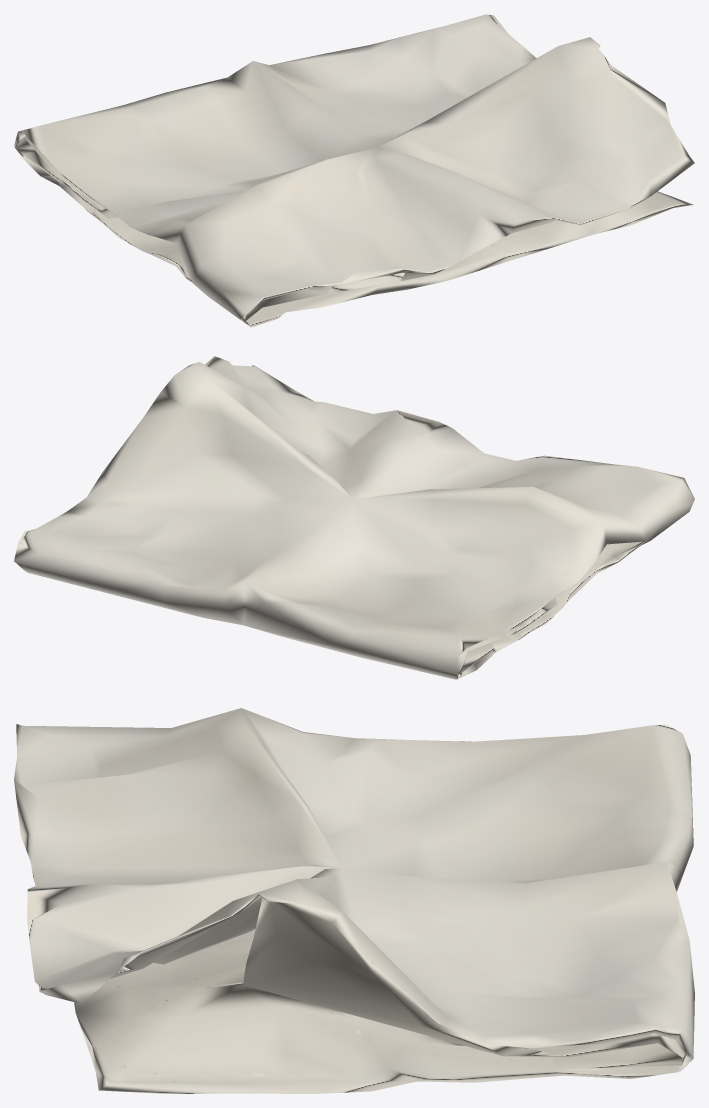
Rendered from ENV_SMALL_PROPS_TISSUE_v001_RAW.glb (1).glb.
3 views of the same model, one above another, from view 1: azimuth 30°, elevation 25°; view 2: azimuth 150°, elevation 25°; view 3: azimuth 270°, elevation 25° (orthographic). The views are drawn at different scales.
Parts seen in each view (by area): view 1: tripo_node_c5e94e51-47b5-48da-ad66-e8413f1bbdf0; view 2: tripo_node_c5e94e51-47b5-48da-ad66-e8413f1bbdf0; view 3: tripo_node_c5e94e51-47b5-48da-ad66-e8413f1bbdf0.
Boxes of the visible parts, box(x1,y1,x2,y2) form: tripo_node_c5e94e51-47b5-48da-ad66-e8413f1bbdf0: box(14, 14, 694, 327); tripo_node_c5e94e51-47b5-48da-ad66-e8413f1bbdf0: box(14, 356, 694, 679); tripo_node_c5e94e51-47b5-48da-ad66-e8413f1bbdf0: box(14, 708, 694, 1093).
Bounding box in the file's own units: 0.981 × 0.2681 × 0.8783.
1 material, 1 textured.
